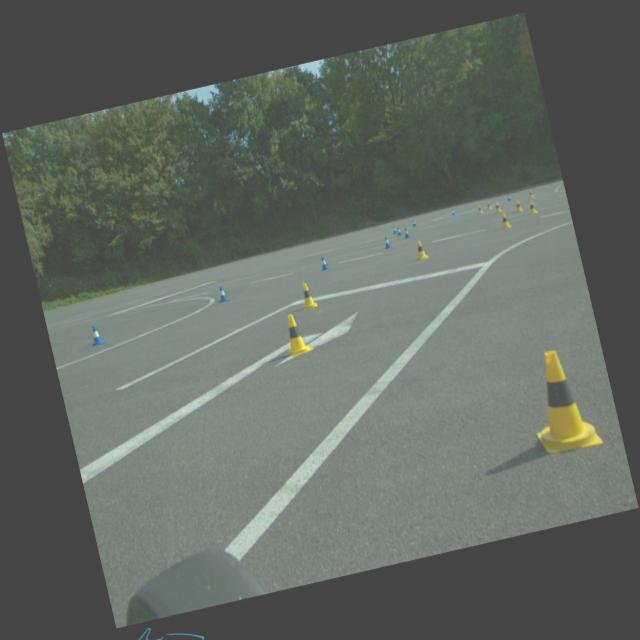blue_cone: (87, 323, 105, 346), (216, 284, 230, 302), (318, 254, 329, 270), (382, 236, 392, 248), (402, 226, 411, 238), (394, 226, 402, 236), (391, 224, 398, 233), (505, 192, 511, 200), (450, 207, 455, 215), (411, 218, 416, 226)
yellow_cone: (520, 344, 602, 457), (278, 311, 314, 358), (298, 280, 318, 309), (412, 238, 429, 260), (498, 212, 512, 228), (527, 200, 538, 214), (514, 199, 524, 212), (493, 201, 502, 212), (476, 204, 484, 214), (486, 200, 492, 210), (528, 189, 534, 198)
